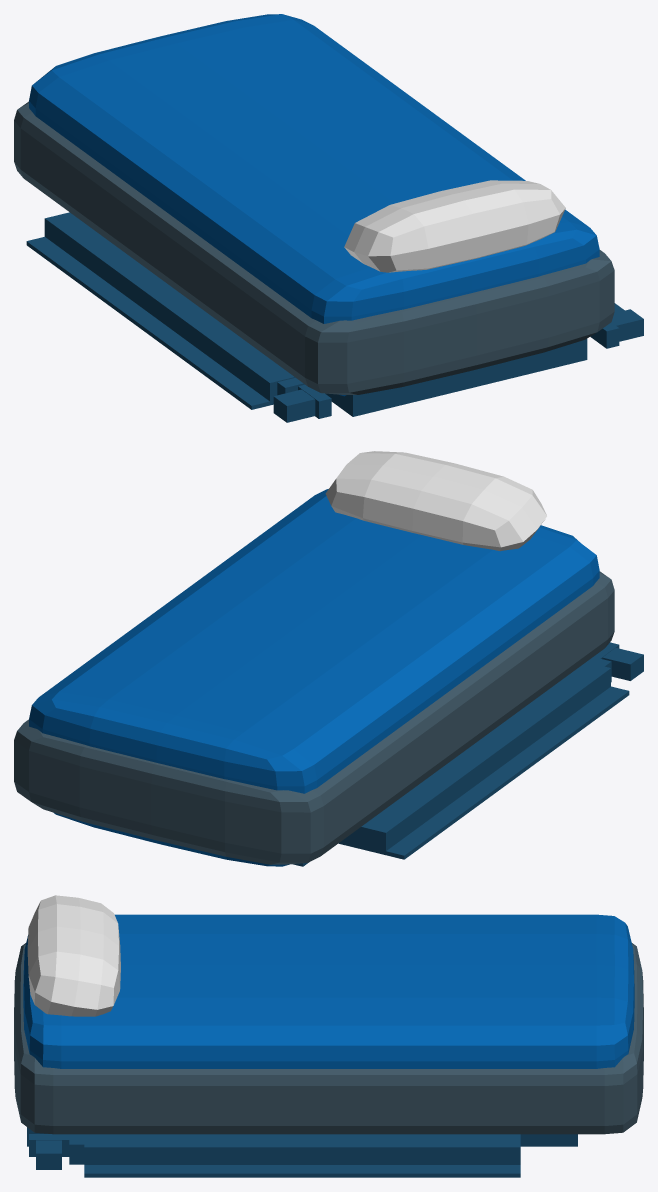
File: bed.glb
3 views of the same model, one above another, from view 1: azimuth 30°, elevation 25°; view 2: azimuth 150°, elevation 25°; view 3: azimuth 270°, elevation 25° (orthographic). The views are drawn at different scales.
Parts seen in each view (by area): view 1: Cube, Cube.002, Cube.003, Cube.001; view 2: Cube, Cube.002, Cube.003, Cube.001; view 3: Cube, Cube.002, Cube.003, Cube.001.
Boxes of the visible parts, bbox=[...] form: Cube: bbox=[29, 14, 599, 396]; Cube.002: bbox=[14, 101, 614, 394]; Cube.003: bbox=[26, 212, 643, 422]; Cube.001: bbox=[344, 180, 565, 272]; Cube: bbox=[29, 489, 599, 866]; Cube.002: bbox=[14, 571, 614, 864]; Cube.003: bbox=[292, 642, 643, 866]; Cube.001: bbox=[325, 451, 546, 551]; Cube: bbox=[23, 914, 634, 1068]; Cube.002: bbox=[14, 943, 643, 1134]; Cube.003: bbox=[27, 1127, 577, 1177]; Cube.001: bbox=[27, 895, 120, 1016].
Size of the model in its own units: 6.48 by 2.86 by 9.66.
